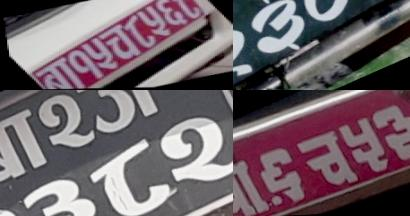0: (0, 107, 55, 194), (292, 0, 365, 33)
1: (150, 108, 233, 199), (29, 90, 100, 161), (233, 22, 260, 90), (56, 48, 107, 82)
2: (70, 90, 166, 143)
3: (240, 0, 317, 66), (369, 101, 410, 168)
5: (335, 115, 391, 181), (74, 38, 124, 70), (130, 6, 178, 37)
6: (249, 142, 306, 208), (148, 0, 191, 27)
8: (113, 15, 164, 49), (163, 0, 206, 18)
ba: (12, 169, 106, 216), (23, 57, 92, 90), (233, 155, 267, 216)
cha: (291, 127, 357, 197), (89, 25, 146, 61)
pa: (80, 137, 177, 216)
